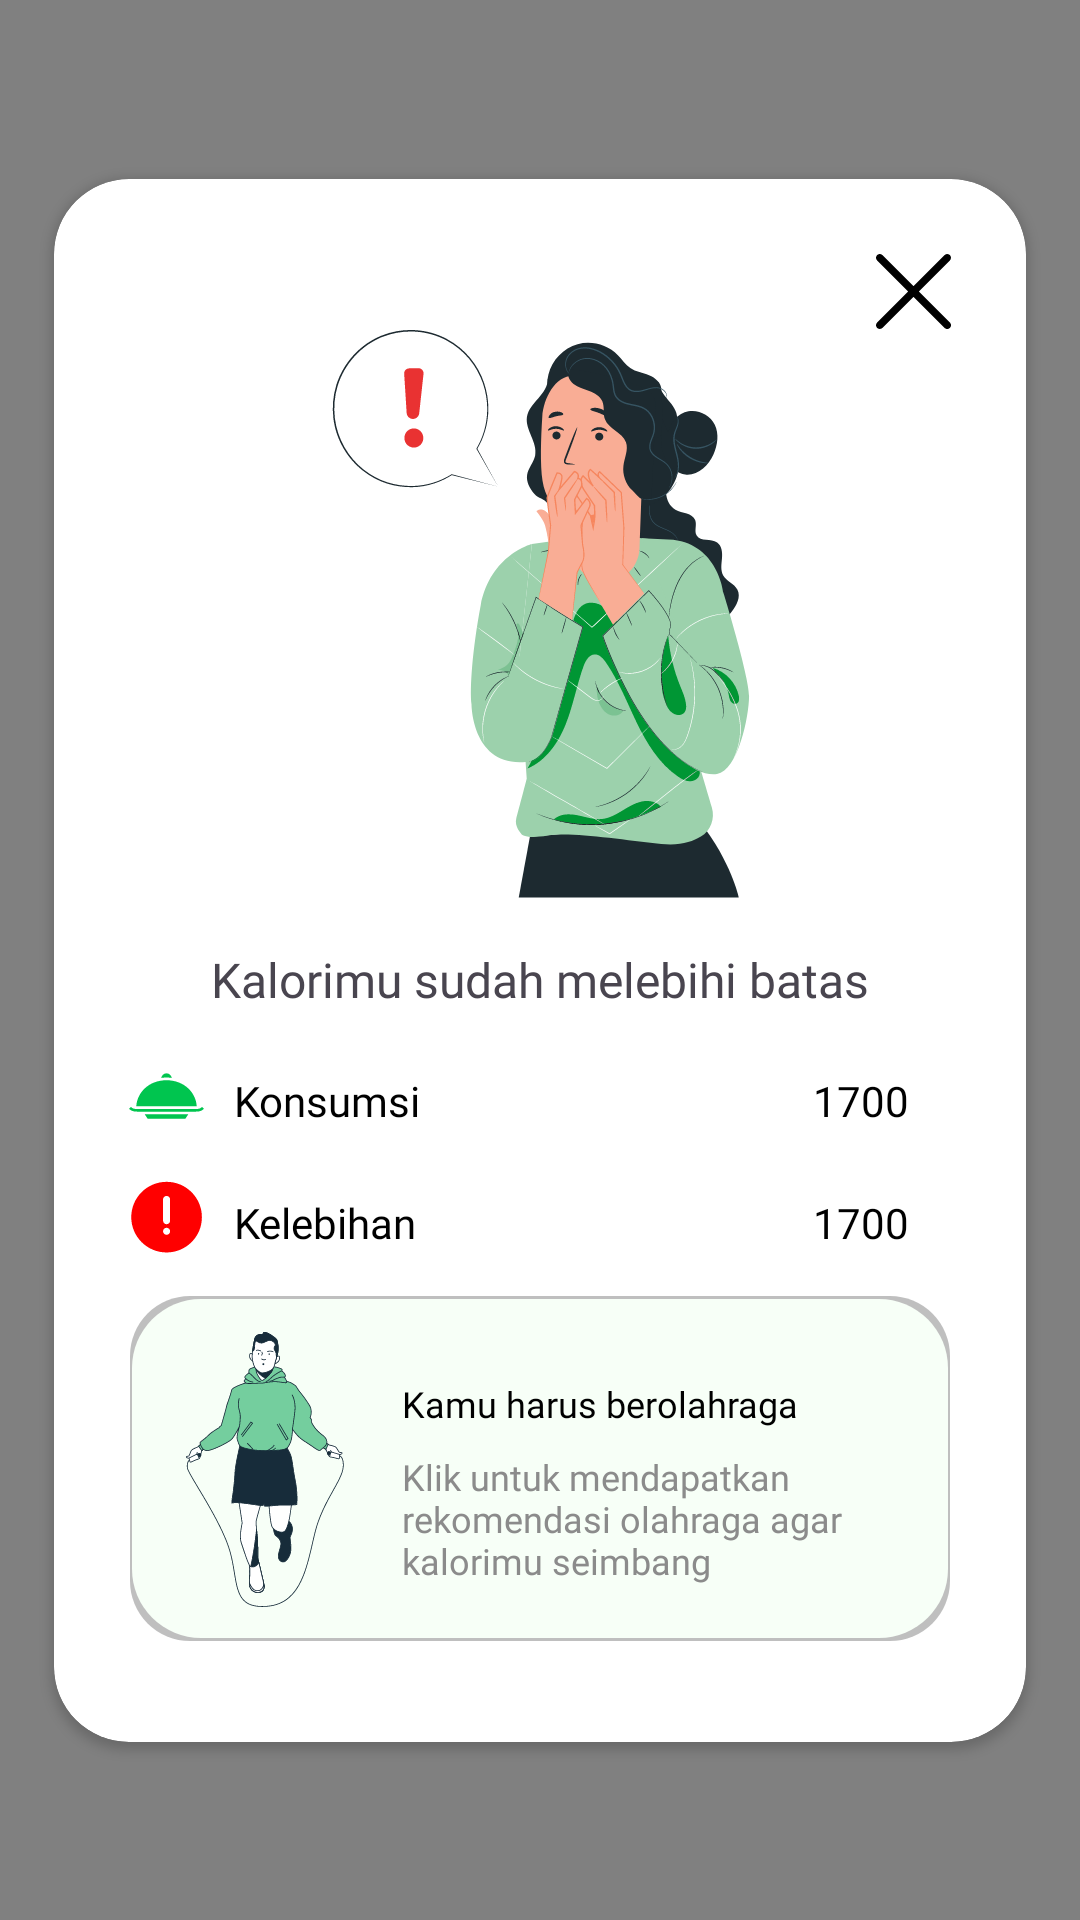

Icon bounding boxes for this 1080w x 1920h phone screenshot, format (x1, y1, x2, y2):
cancel: (876, 254, 951, 329)
food: (129, 1073, 204, 1119)
warning: (131, 1181, 202, 1253)
